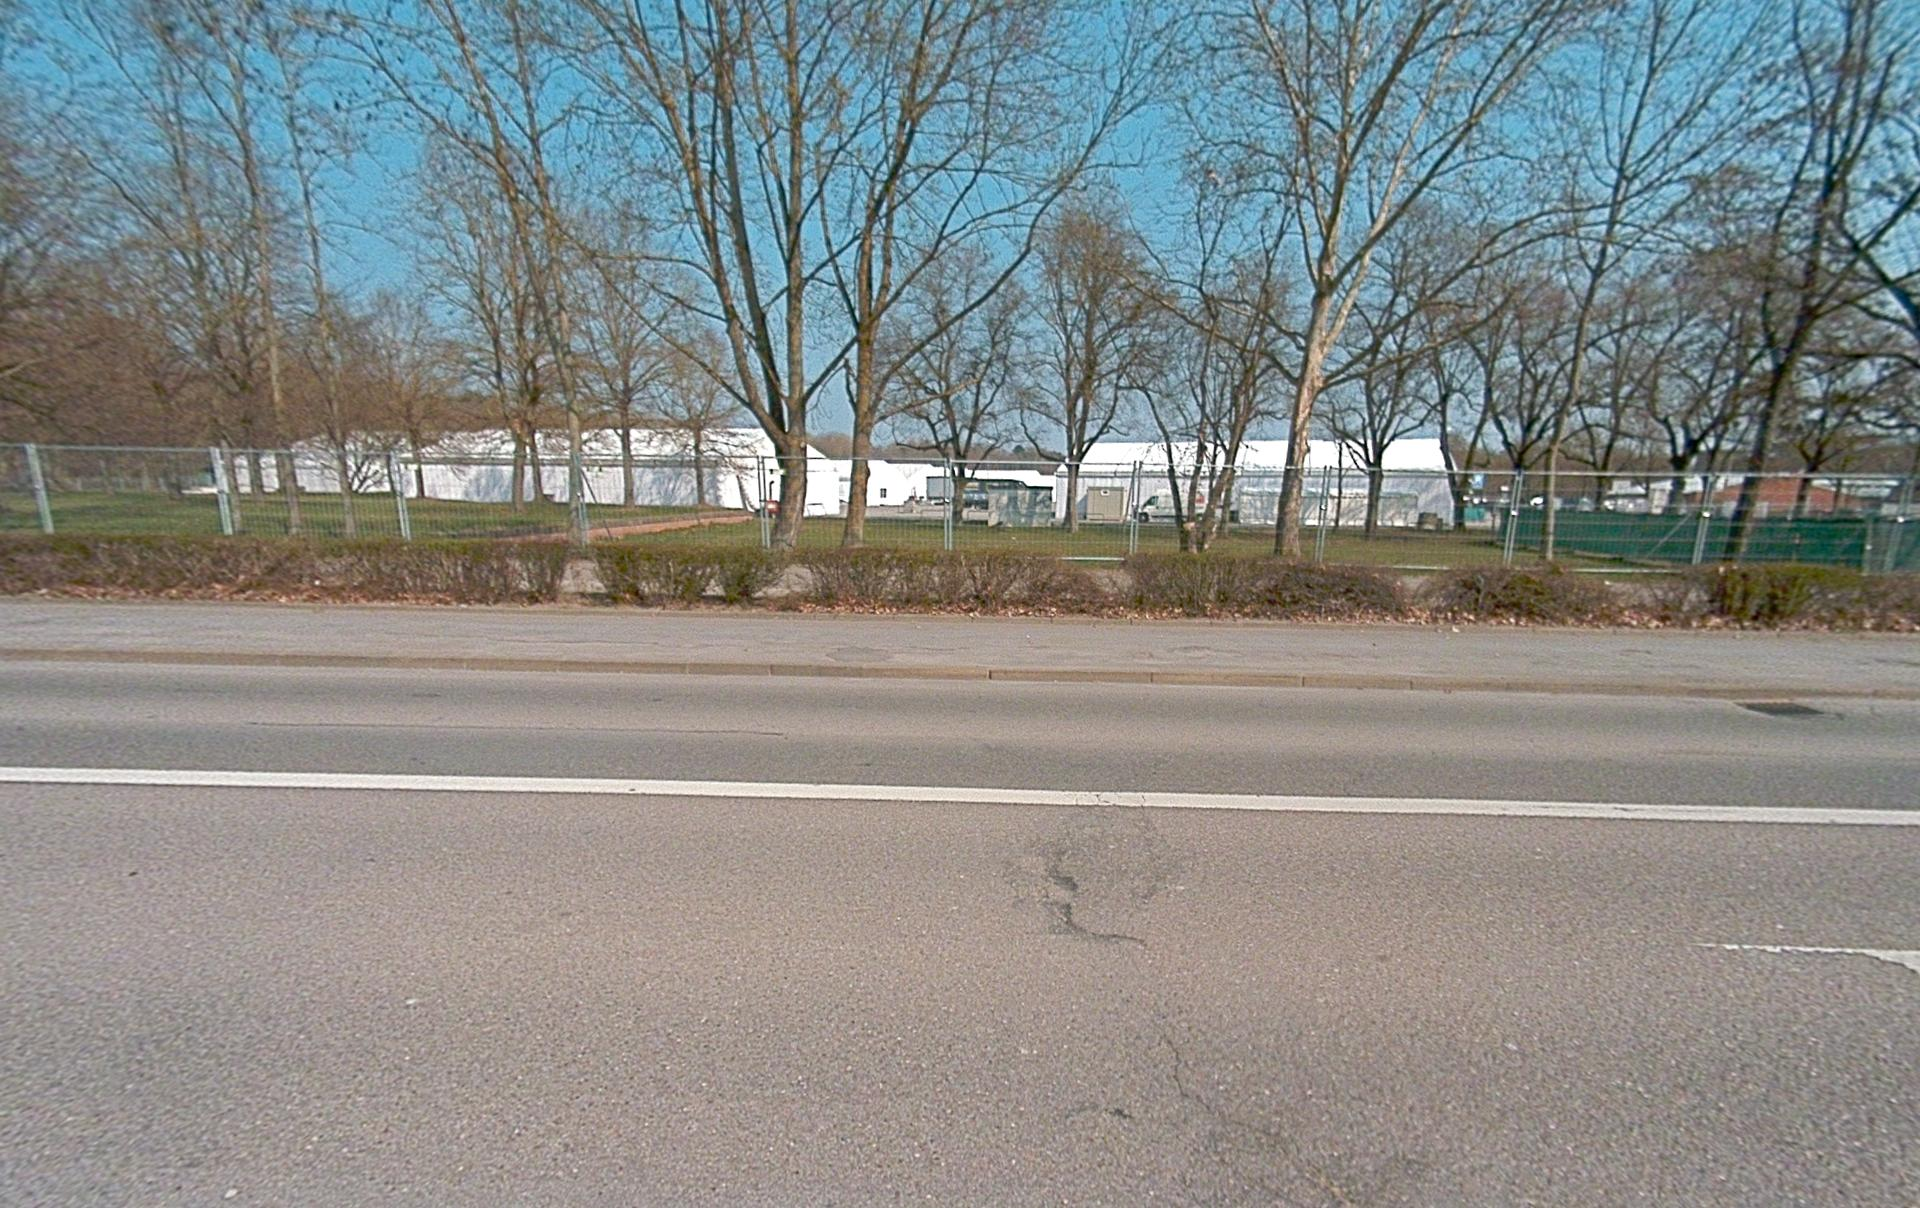car: (1135, 490, 1240, 525)
